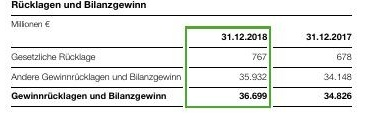table: (0, 0, 367, 120)
